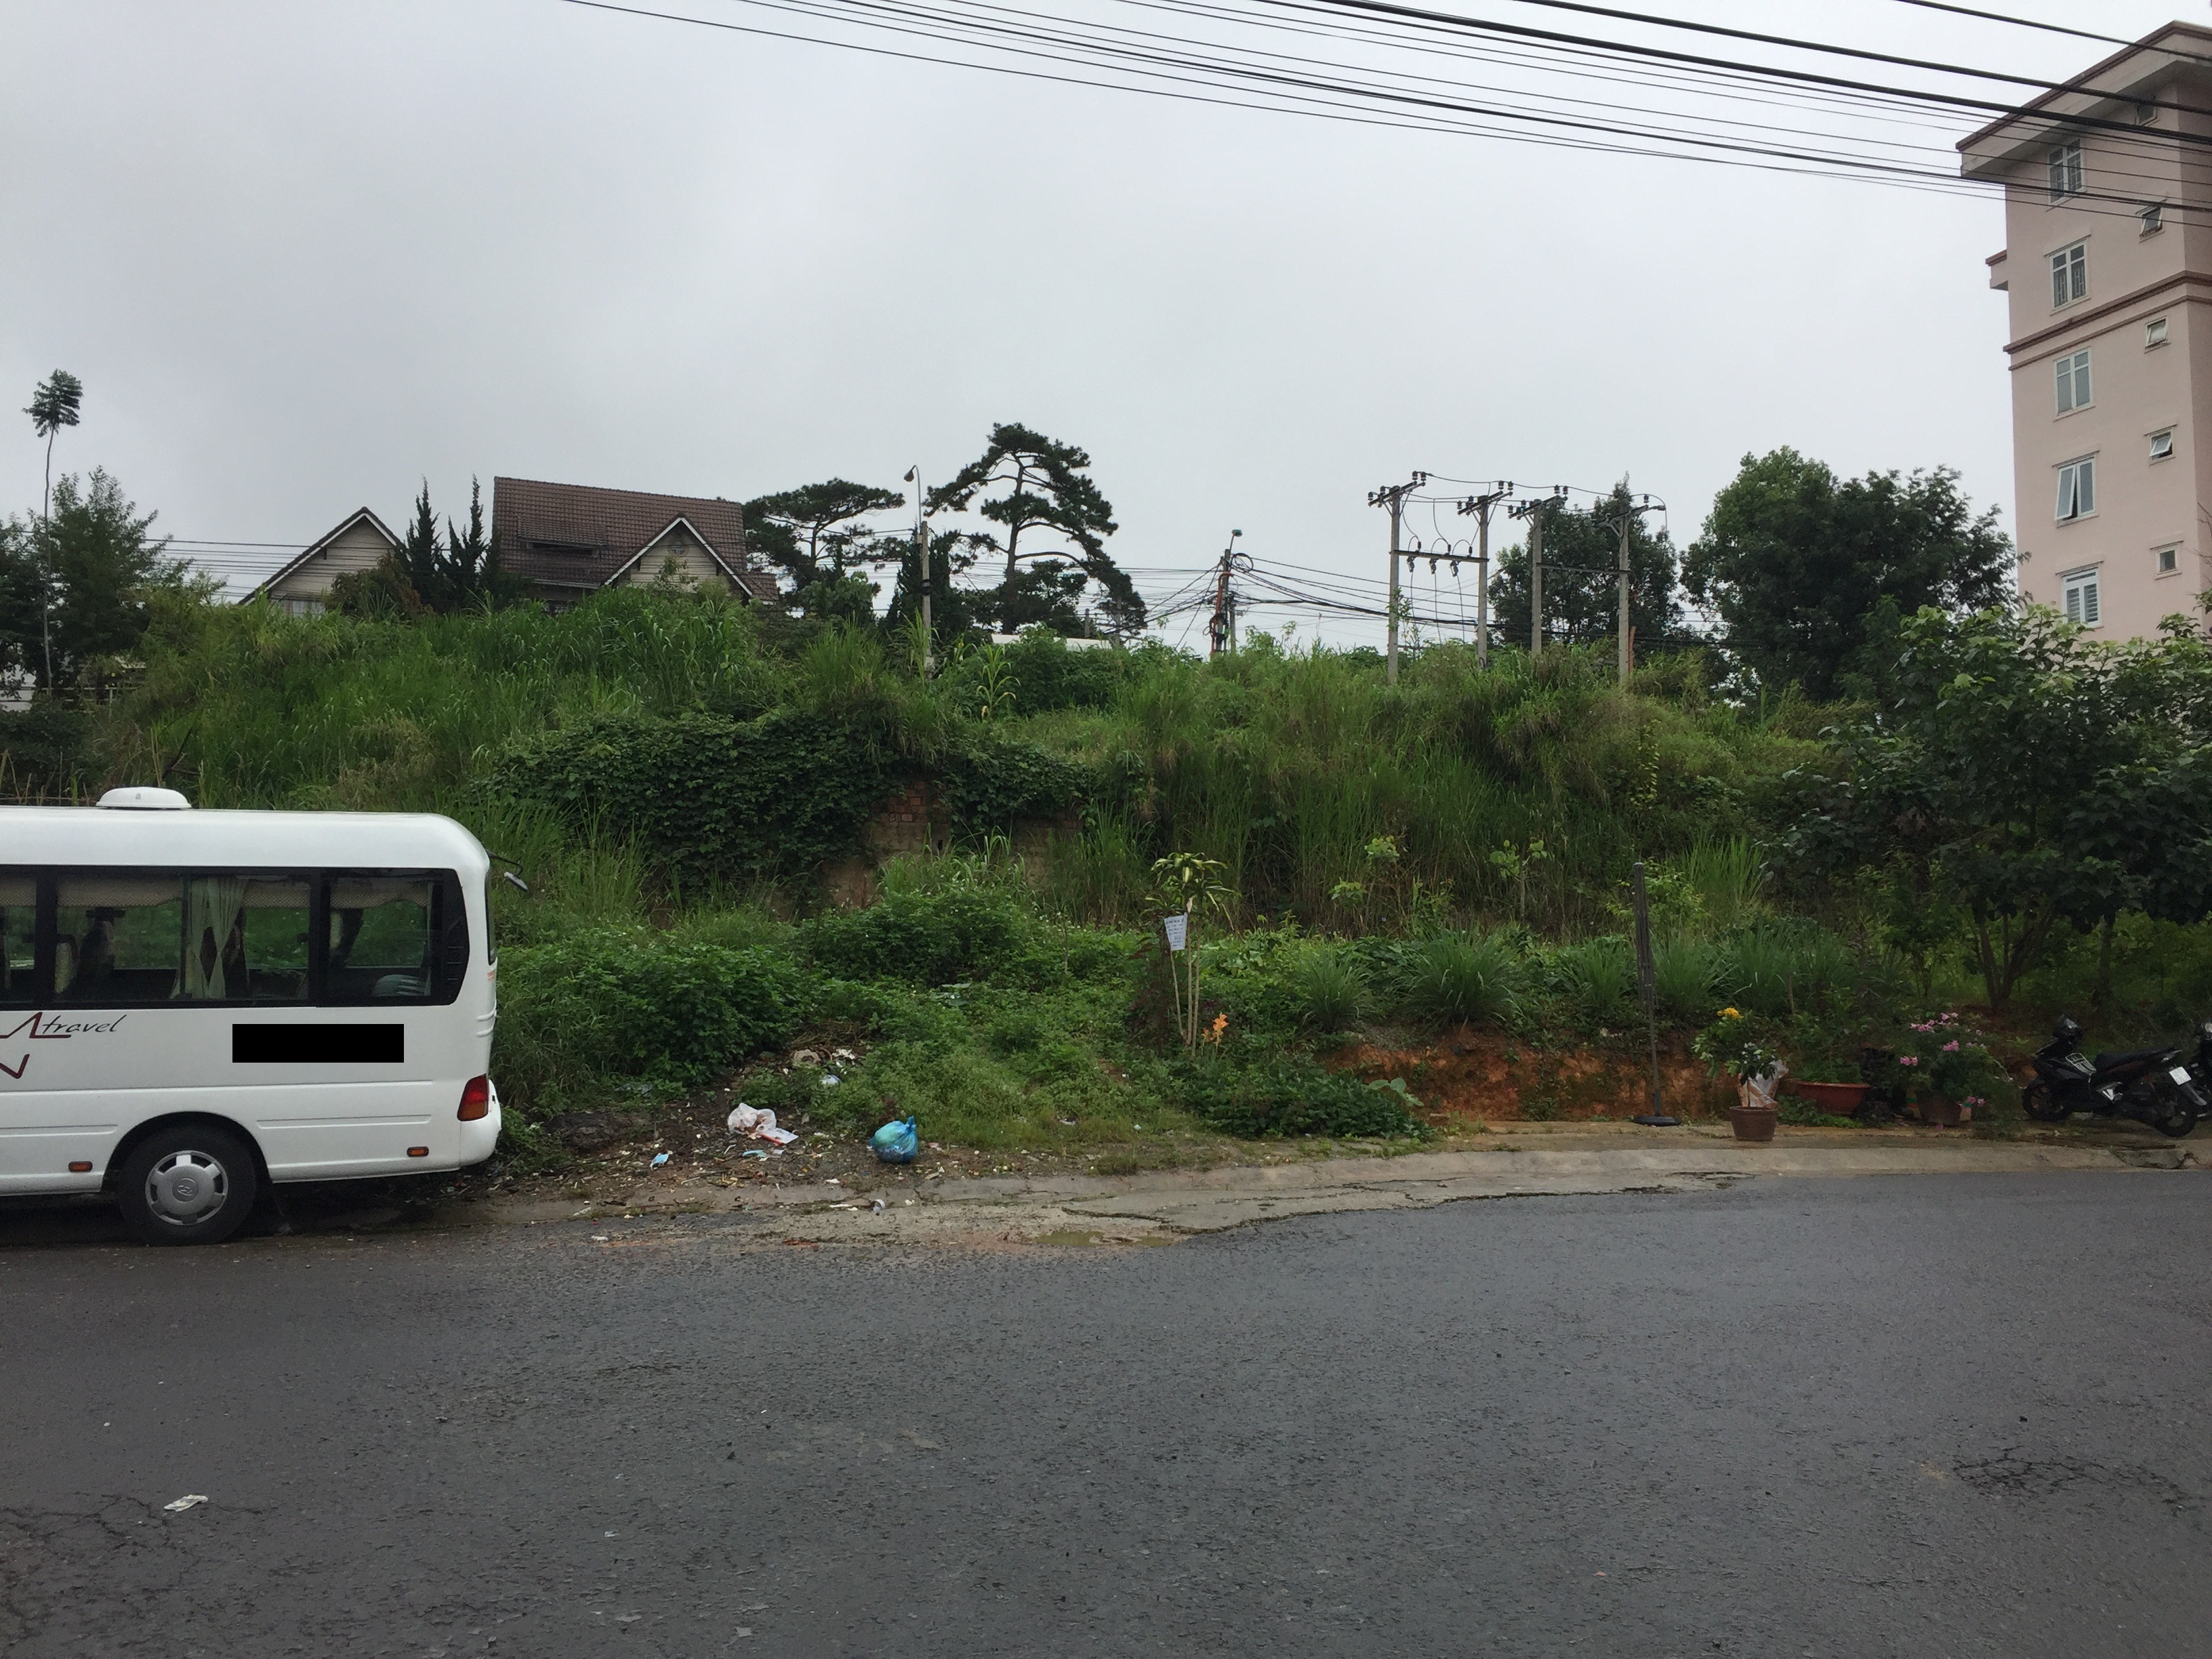hole: (996, 1223, 1186, 1251)
